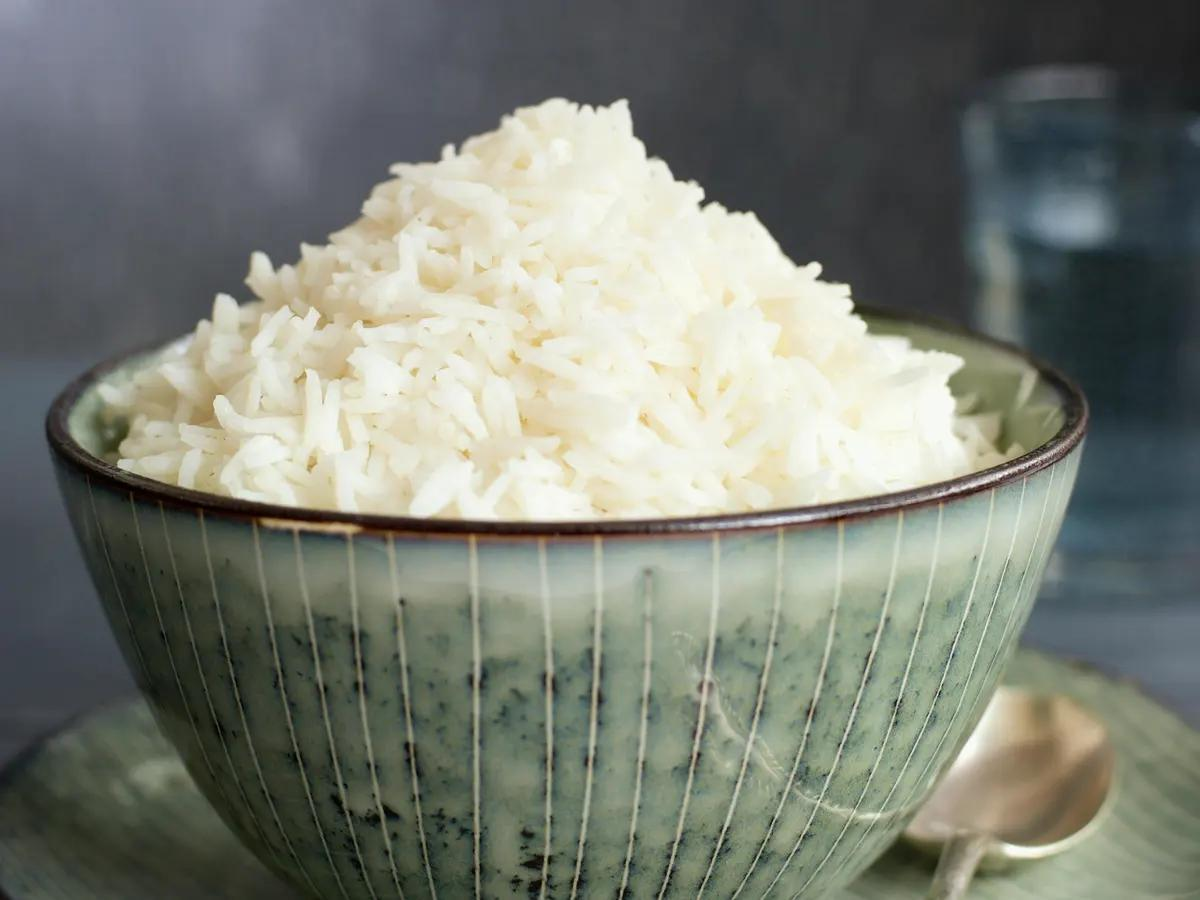rice: (102, 100, 1026, 522)
